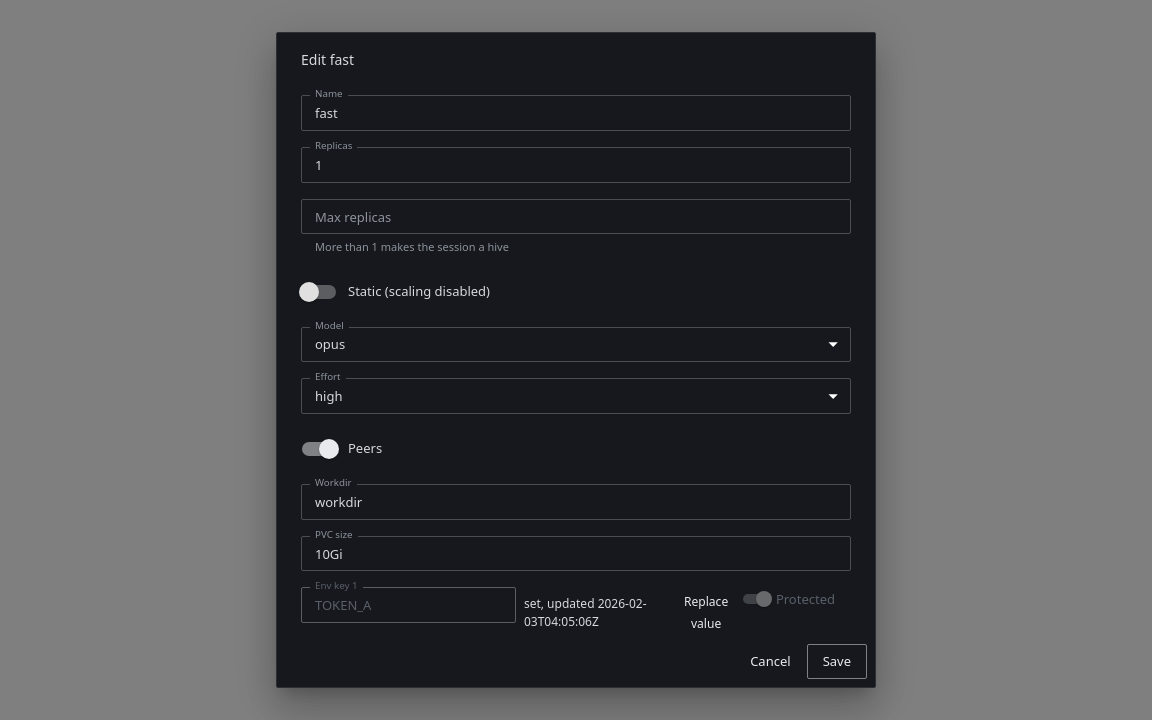
env variables: protected and expand › Replace value needs a non-empty value, Cancel returns to untouched
The width and height of the screenshot is (1152, 720).
Click the button with aria-label "Replace value 1": [706, 613] box [673,588,739,638]
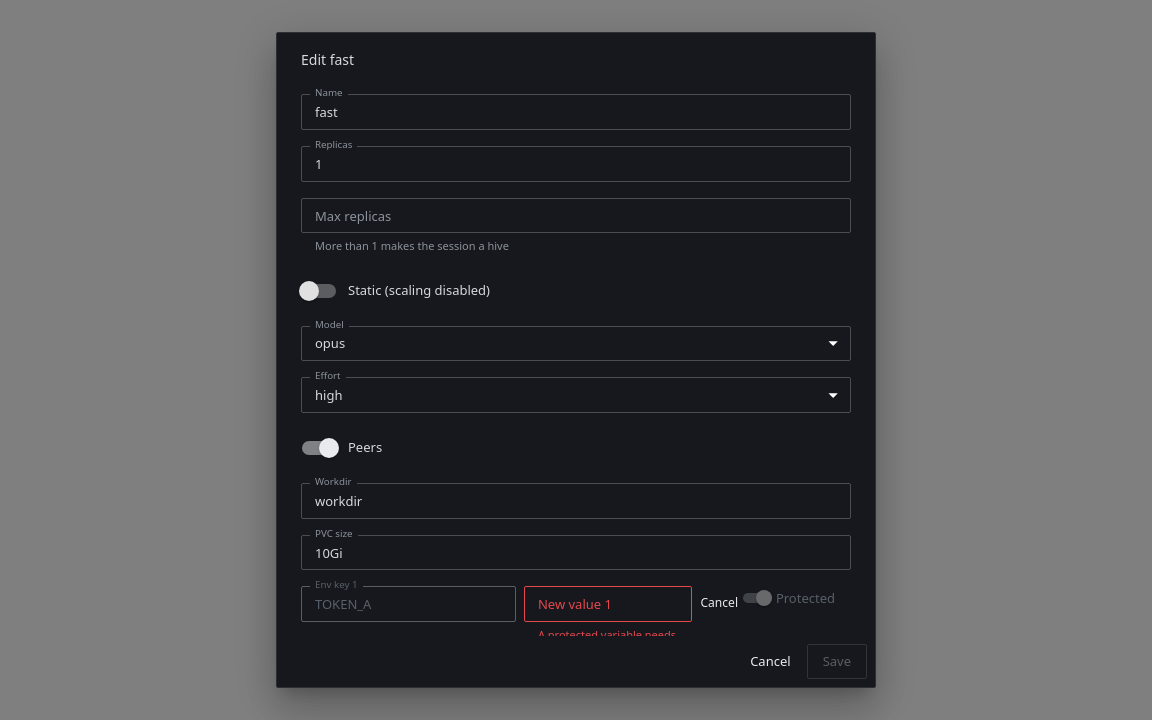
Click the button with aria-label "Cancel replace 1": [719, 602] box [700,586,739,618]
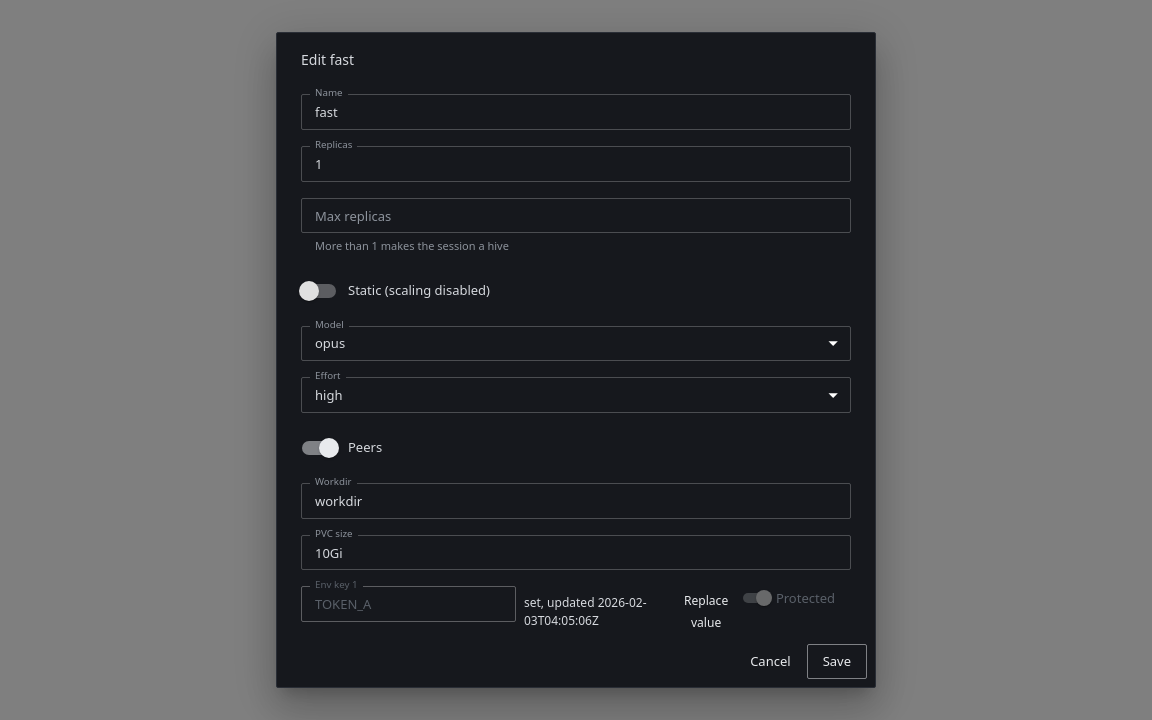
Result: the label labelled "New value 1" is gone
Result: the button with aria-label "Replace value 1" is shown at [673,586,739,636]
